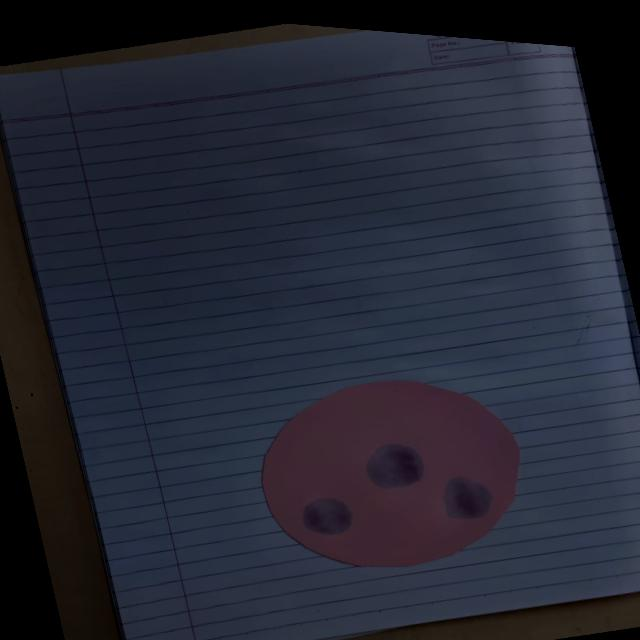BlueColor: (366, 444, 423, 487), (443, 476, 492, 518), (302, 498, 351, 534)
